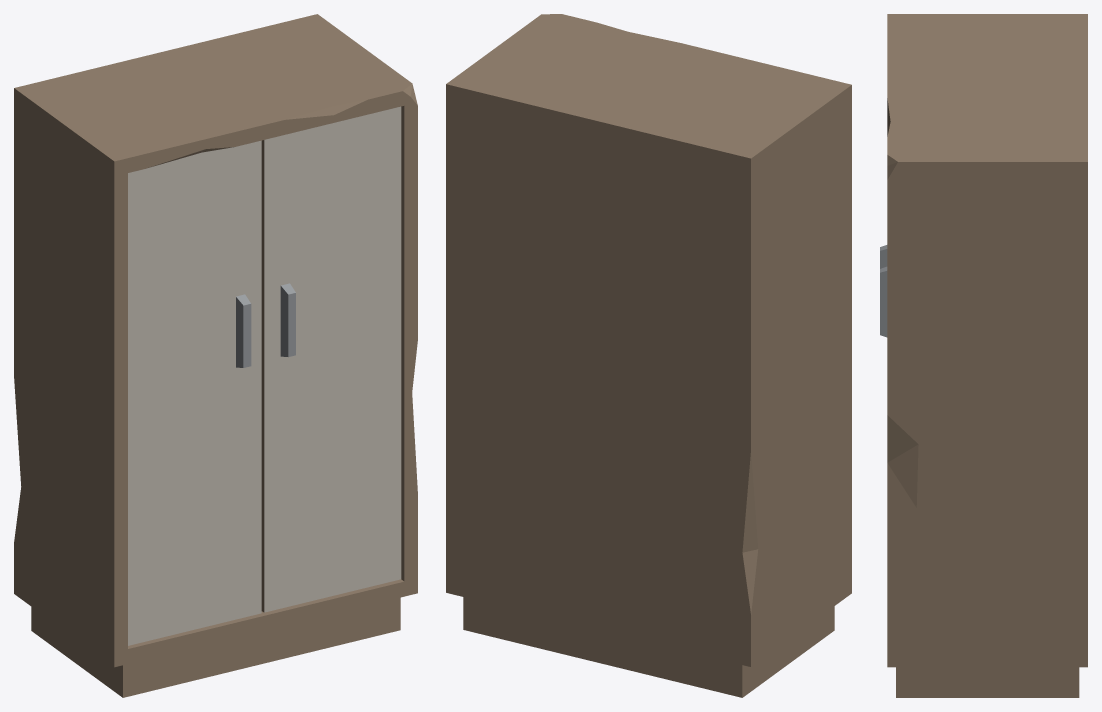
The model's file is SM_Prop_Wardrobe_02.fbx.
3 views of the same model, side by side, from view 1: azimuth 30°, elevation 25°; view 2: azimuth 150°, elevation 25°; view 3: azimuth 270°, elevation 25° (orthographic).
Parts seen in each view (by area): view 1: SM_Prop_Wardrobe_02; view 2: SM_Prop_Wardrobe_02; view 3: SM_Prop_Wardrobe_02.
Part boxes in pixels (bbox=[...]): SM_Prop_Wardrobe_02: bbox=[14, 14, 417, 697]; SM_Prop_Wardrobe_02: bbox=[446, 14, 851, 697]; SM_Prop_Wardrobe_02: bbox=[880, 14, 1087, 697].
Bounding box in the file's own units: 120 × 205 × 71.17.
